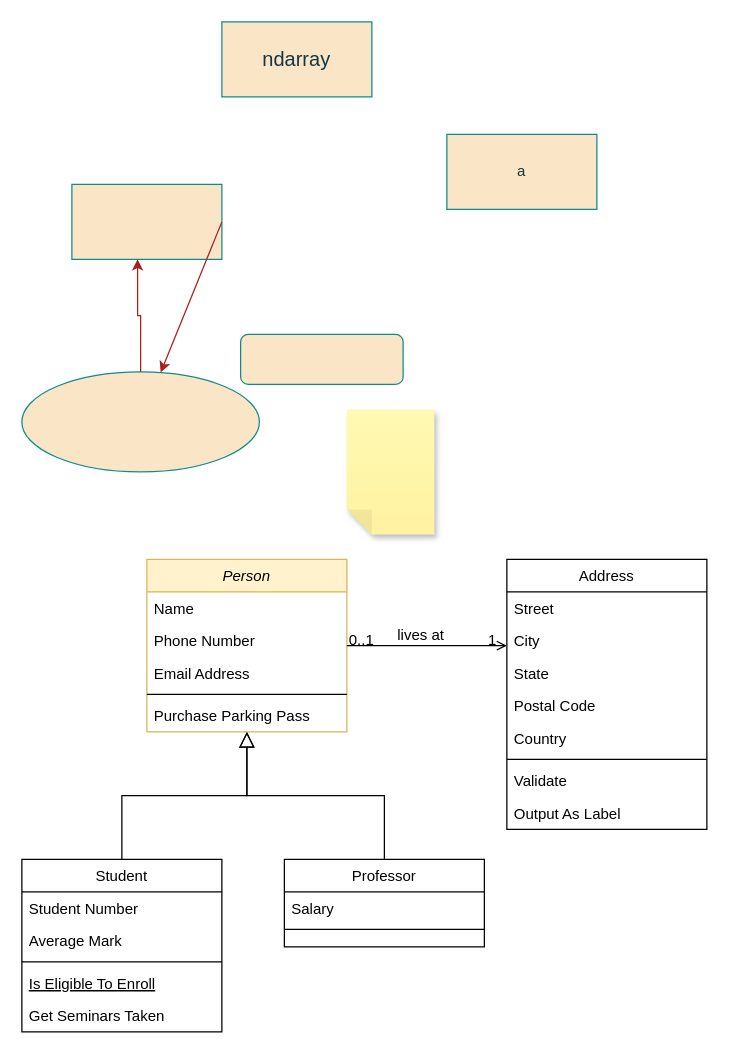
Some shapes in this 729 by 1058 pixel diagram are drawn without their labels. Here are the shapes that lost their labels. From the top down, the centre of each, then its label:
(321,358): app.diagrams.net
(140,421): function
(391,473): 函数
